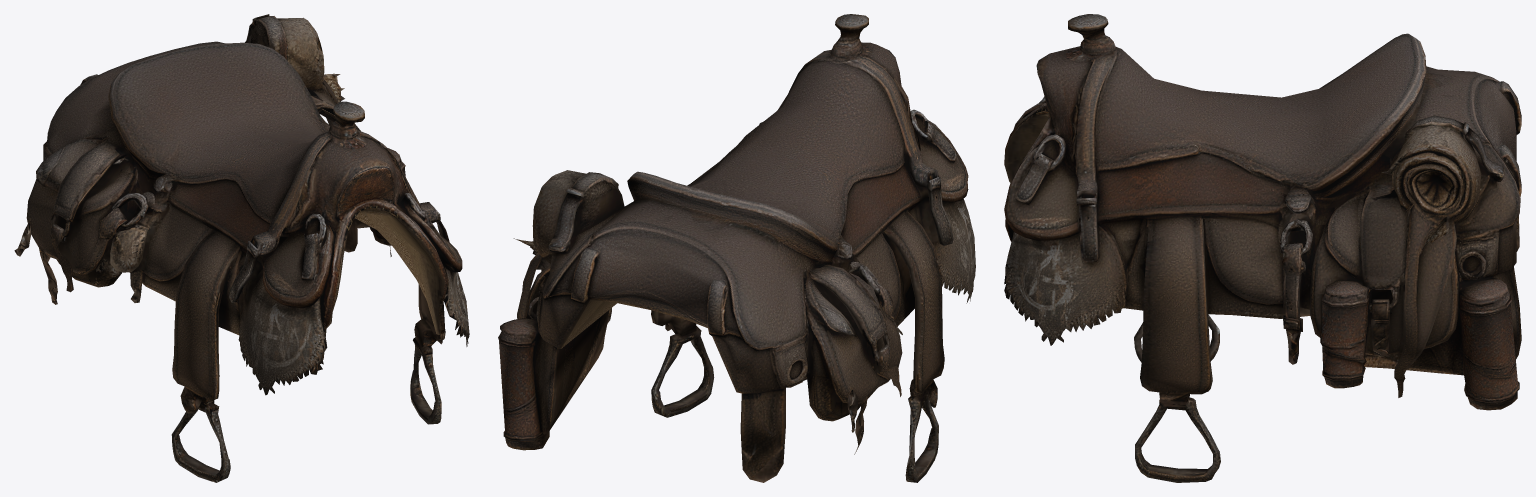
Rendered from saddle.glb.
3 renders of one model, left to right at view 1: azimuth 30°, elevation 25°; view 2: azimuth 150°, elevation 25°; view 3: azimuth 270°, elevation 25°, orthographic. The views are drawn at different scales.
Visible parts, largest first — view 1: tripo_node_b09eeb46-99f0-4837-9486-c5079ce4106e; view 2: tripo_node_b09eeb46-99f0-4837-9486-c5079ce4106e; view 3: tripo_node_b09eeb46-99f0-4837-9486-c5079ce4106e.
Part boxes in pixels (x1,y1,x2,y2): tripo_node_b09eeb46-99f0-4837-9486-c5079ce4106e: [14, 14, 469, 482]; tripo_node_b09eeb46-99f0-4837-9486-c5079ce4106e: [498, 14, 975, 482]; tripo_node_b09eeb46-99f0-4837-9486-c5079ce4106e: [1004, 14, 1521, 482].
Size of the model in its own units: 27330 by 28224 by 32703.
1 material, 1 textured.
